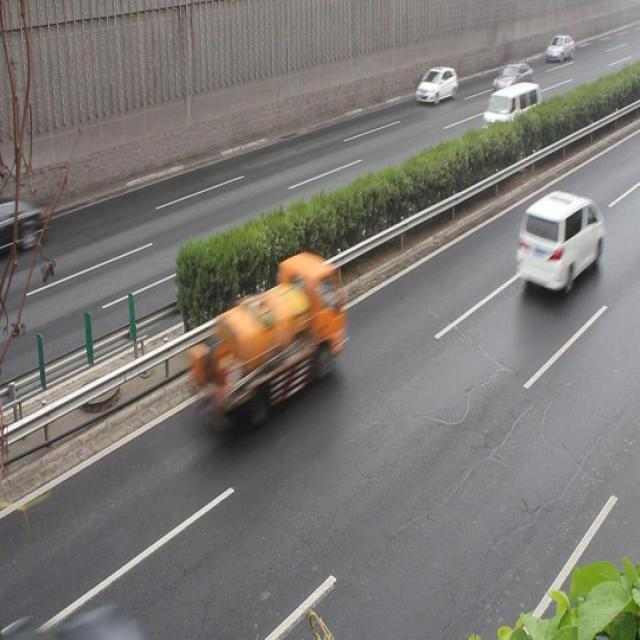bus: (198, 252, 344, 413)
car: (514, 189, 602, 289), (415, 65, 455, 104), (491, 61, 531, 97)
truck: (480, 84, 540, 138)
